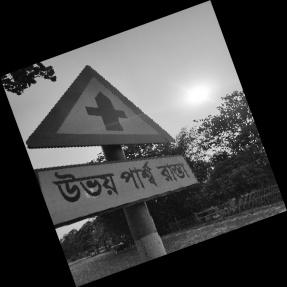Crossroad: (16, 61, 211, 223)
